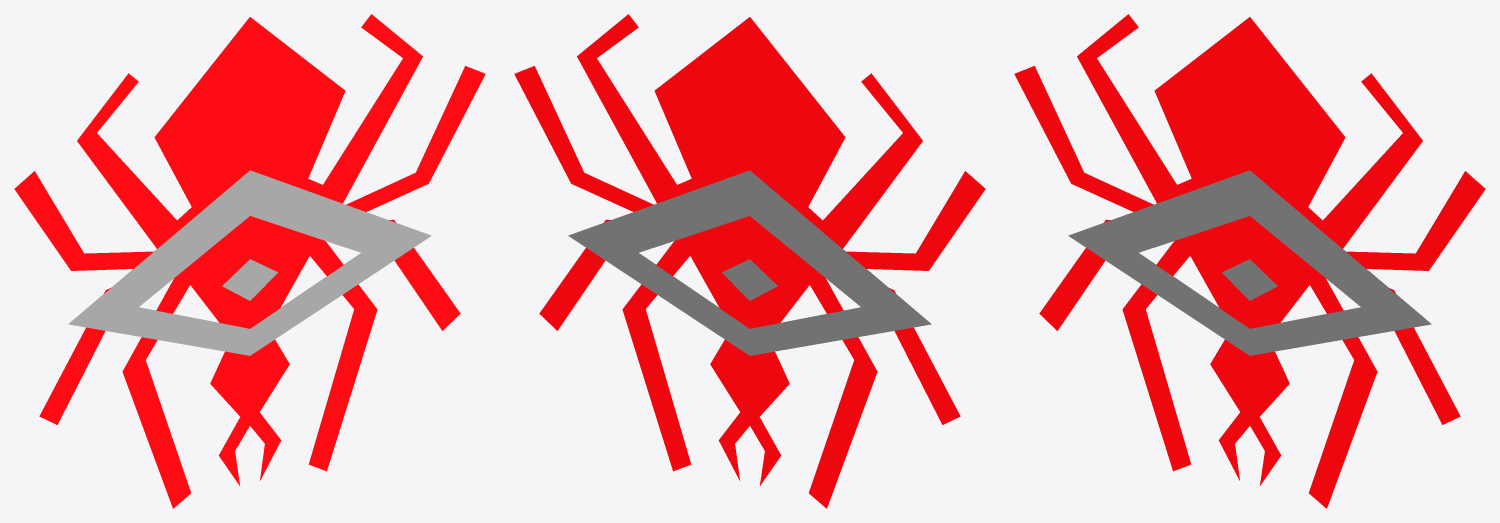
File: хакерЖук.fbx
3 views of the same model, side by side, from view 1: azimuth 30°, elevation 25°; view 2: azimuth 150°, elevation 25°; view 3: azimuth 330°, elevation 25° (orthographic).
Visible parts, largest first — view 1: Plane, Plane.002; view 2: Plane, Plane.001; view 3: Plane, Plane.002.
Boxes of the visible parts, x1=… form: Plane: x1=14, y1=14, x2=485, y2=508; Plane.002: x1=68, y1=170, x2=431, y2=355; Plane: x1=514, y1=14, x2=985, y2=508; Plane.001: x1=568, y1=170, x2=931, y2=355; Plane: x1=1014, y1=14, x2=1485, y2=508; Plane.002: x1=1068, y1=170, x2=1431, y2=355.
Size of the model in its own units: 182 by 175 by 0.2.
